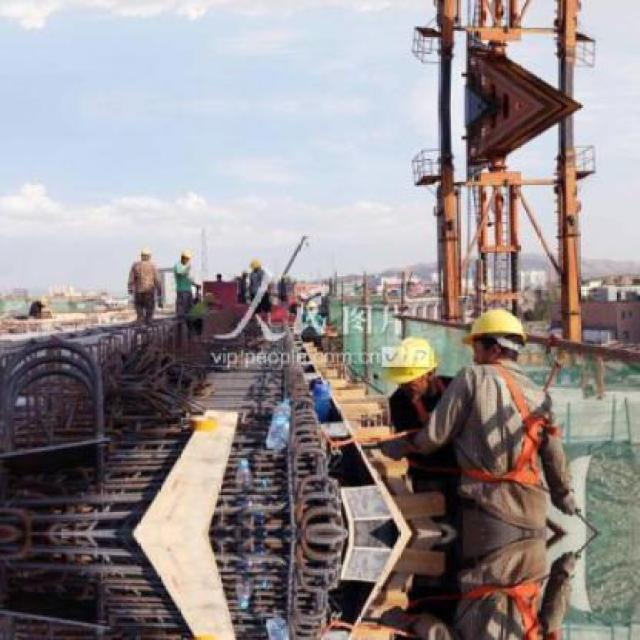helmet: (463, 302, 531, 372), (381, 332, 441, 394), (178, 248, 192, 266), (248, 258, 262, 274)
